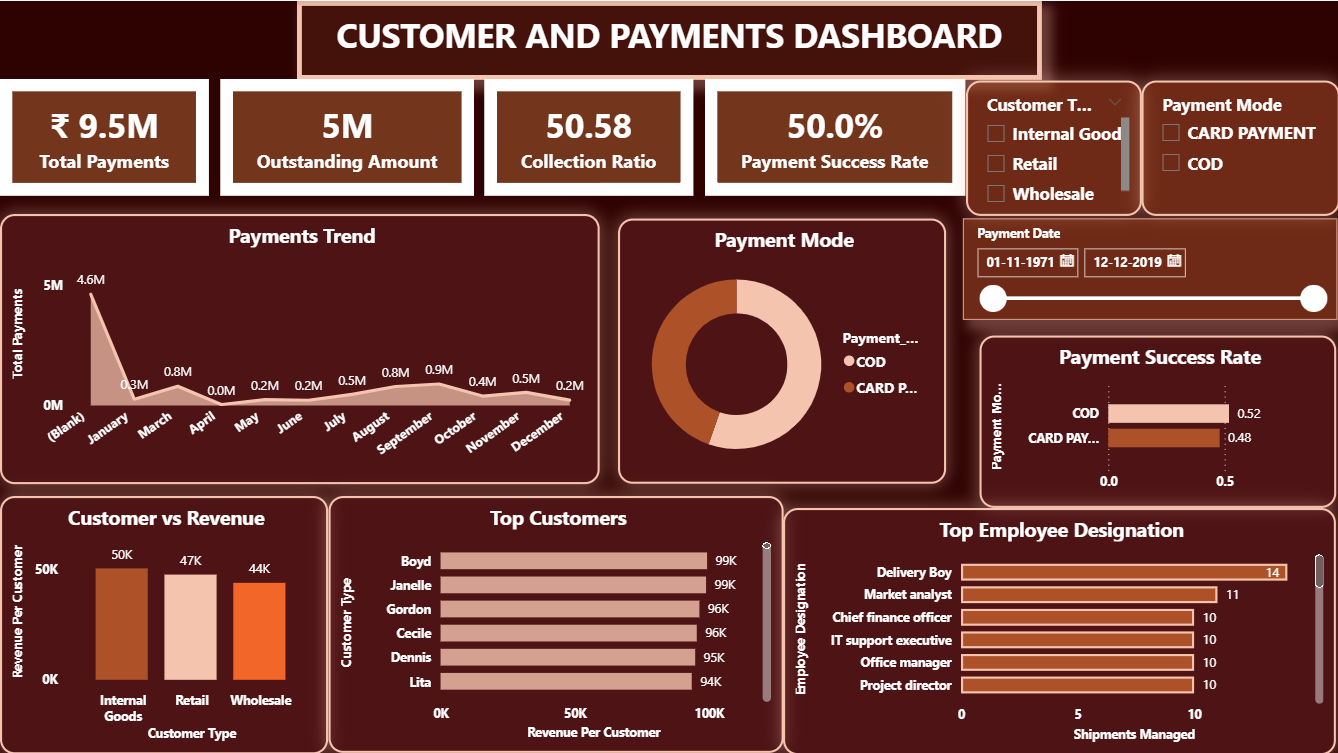

This screenshot's page, from the dashboard's own definition file:
{"tool":"powerbi","page":{"name":"Page 2","canvas":[1280,720],"ordinal":1},"visuals":[{"type":"textbox","box":[284,0,711.5,75.6],"z":0},{"type":"cardVisual","fields":{"Data":["payment_details.Total_payments"]},"box":[0,74.1,199.1,111.1],"z":1},{"type":"cardVisual","fields":{"Data":["payment_details.Outstanding_Amount"]},"box":[209.9,74.1,242.3,111.1],"z":2},{"type":"cardVisual","fields":{"Data":["payment_details.Collection_ratio"]},"box":[463,74.1,199.1,111.1],"z":3},{"type":"cardVisual","fields":{"Data":["payment_details.payment_success_rate"]},"box":[673.7,74.3,248.8,111.5],"z":4},{"type":"areaChart","title":"Payments Trend","fields":{"Category":["payment_details.Payment_Date.Variation.Date Hierarchy.Month"],"Y":["payment_details.Total Payments"]},"box":[0,203.7,572.6,257.8],"z":6},{"type":"donutChart","title":"Payment Mode","fields":{"Category":["payment_details.Payment_Mode"],"Y":["payment_details.Total Payments"]},"box":[589.7,208.4,313.4,253.6],"z":7},{"type":"barChart","title":"Payment Success Rate","fields":{"Category":["payment_details.Payment_Mode"],"Y":["payment_details.Payment Success Rate"]},"box":[935.4,319.9,340.9,164.8],"z":8},{"type":"columnChart","title":"Customer vs Revenue","fields":{"Y":["customer.Revenue_per_customer"],"Category":["customer.Customer_Type"]},"box":[0,472.8,313.6,246.5],"z":9},{"type":"barChart","title":"Top Customers","fields":{"Category":["customer.Customer_Name"],"Y":["customer.Revenue_per_customer"]},"box":[313.4,473.3,434.6,245.6],"z":10},{"type":"barChart","title":"Top Employee Designation","fields":{"Category":["employee_details.Emp_Designation"],"Y":["employee_manages_shipment.Shipments_managed"]},"box":[748,484.6,528.3,235.9],"z":11},{"type":"slicer","title":"Delivery Trends over TIme ","fields":{"Values":["customer.Customer_Type"]},"box":[922.4,75.9,168,129.2],"z":12},{"type":"slicer","title":"Delivery Trends over TIme ","fields":{"Values":["payment_details.Payment_Mode"]},"box":[1090.5,75.9,189,129.2],"z":13},{"type":"slicer","fields":{"Values":["payment_details.Payment_Date"]},"box":[919.2,208.4,357,96.9],"z":14}]}

Visuals, with their boxes in screenshot pixels (x1, y1, x2, y2), scaled from the page's 1280x720 canvas onto the 1338x753 screenshot:
textbox: locate(297, 0, 1041, 79)
cardVisual - payment_details.Total_payments: locate(0, 77, 208, 194)
cardVisual - payment_details.Outstanding_Amount: locate(219, 77, 473, 194)
cardVisual - payment_details.Collection_ratio: locate(484, 77, 692, 194)
cardVisual - payment_details.payment_success_rate: locate(704, 78, 964, 194)
"Payments Trend" areaChart: locate(0, 213, 599, 483)
"Payment Mode" donutChart: locate(616, 218, 944, 483)
"Payment Success Rate" barChart: locate(978, 335, 1334, 507)
"Customer vs Revenue" columnChart: locate(0, 494, 328, 752)
"Top Customers" barChart: locate(328, 495, 782, 752)
"Top Employee Designation" barChart: locate(782, 507, 1334, 752)
"Delivery Trends over TIme " slicer: locate(964, 79, 1140, 215)
"Delivery Trends over TIme " slicer: locate(1140, 79, 1337, 215)
slicer - payment_details.Payment_Date: locate(961, 218, 1334, 319)
